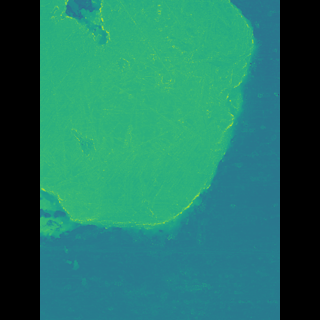Loch: (70, 0, 237, 244)
